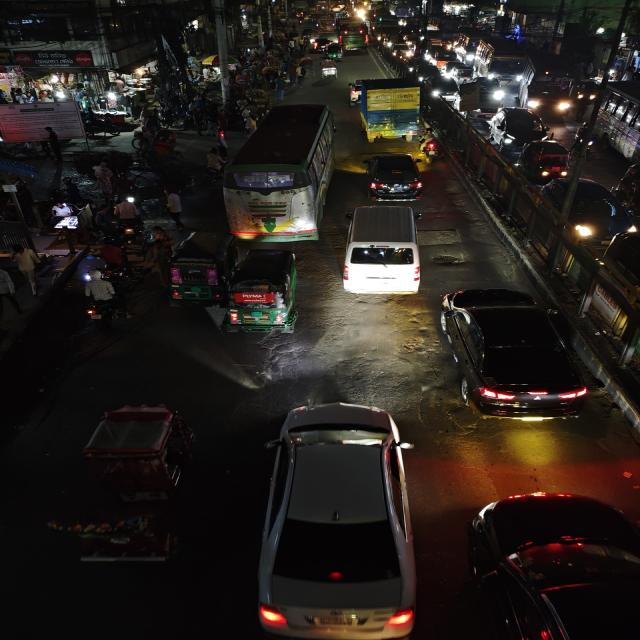bus: (222, 102, 339, 240), (590, 80, 640, 172), (526, 50, 578, 116), (475, 36, 528, 90), (338, 20, 369, 50)
car: (258, 401, 418, 640), (460, 487, 640, 640), (435, 285, 598, 423), (339, 203, 425, 299), (536, 174, 635, 246), (597, 227, 640, 383), (364, 150, 425, 202), (488, 105, 556, 149), (604, 230, 640, 308), (518, 140, 575, 178), (618, 161, 640, 221), (427, 74, 462, 103), (311, 38, 330, 54)
cng: (222, 248, 302, 339), (167, 230, 236, 312), (446, 61, 475, 85), (575, 76, 598, 104), (325, 43, 345, 62)
motorcycle: (80, 272, 124, 328), (109, 198, 147, 242), (417, 128, 442, 162)
pedestrian: (140, 225, 173, 279), (110, 199, 148, 242), (95, 238, 131, 278), (162, 189, 187, 227), (203, 146, 225, 180), (215, 126, 229, 149)
rickshaw: (57, 403, 200, 570), (132, 128, 183, 162), (318, 60, 341, 80)
truck: (352, 76, 422, 142)
